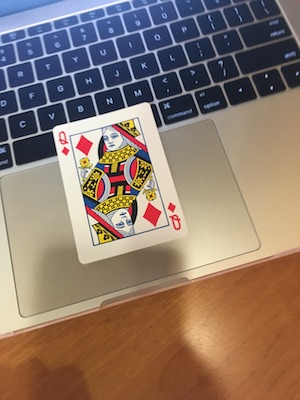QueenOfDiamonds: (44, 101, 198, 268)
